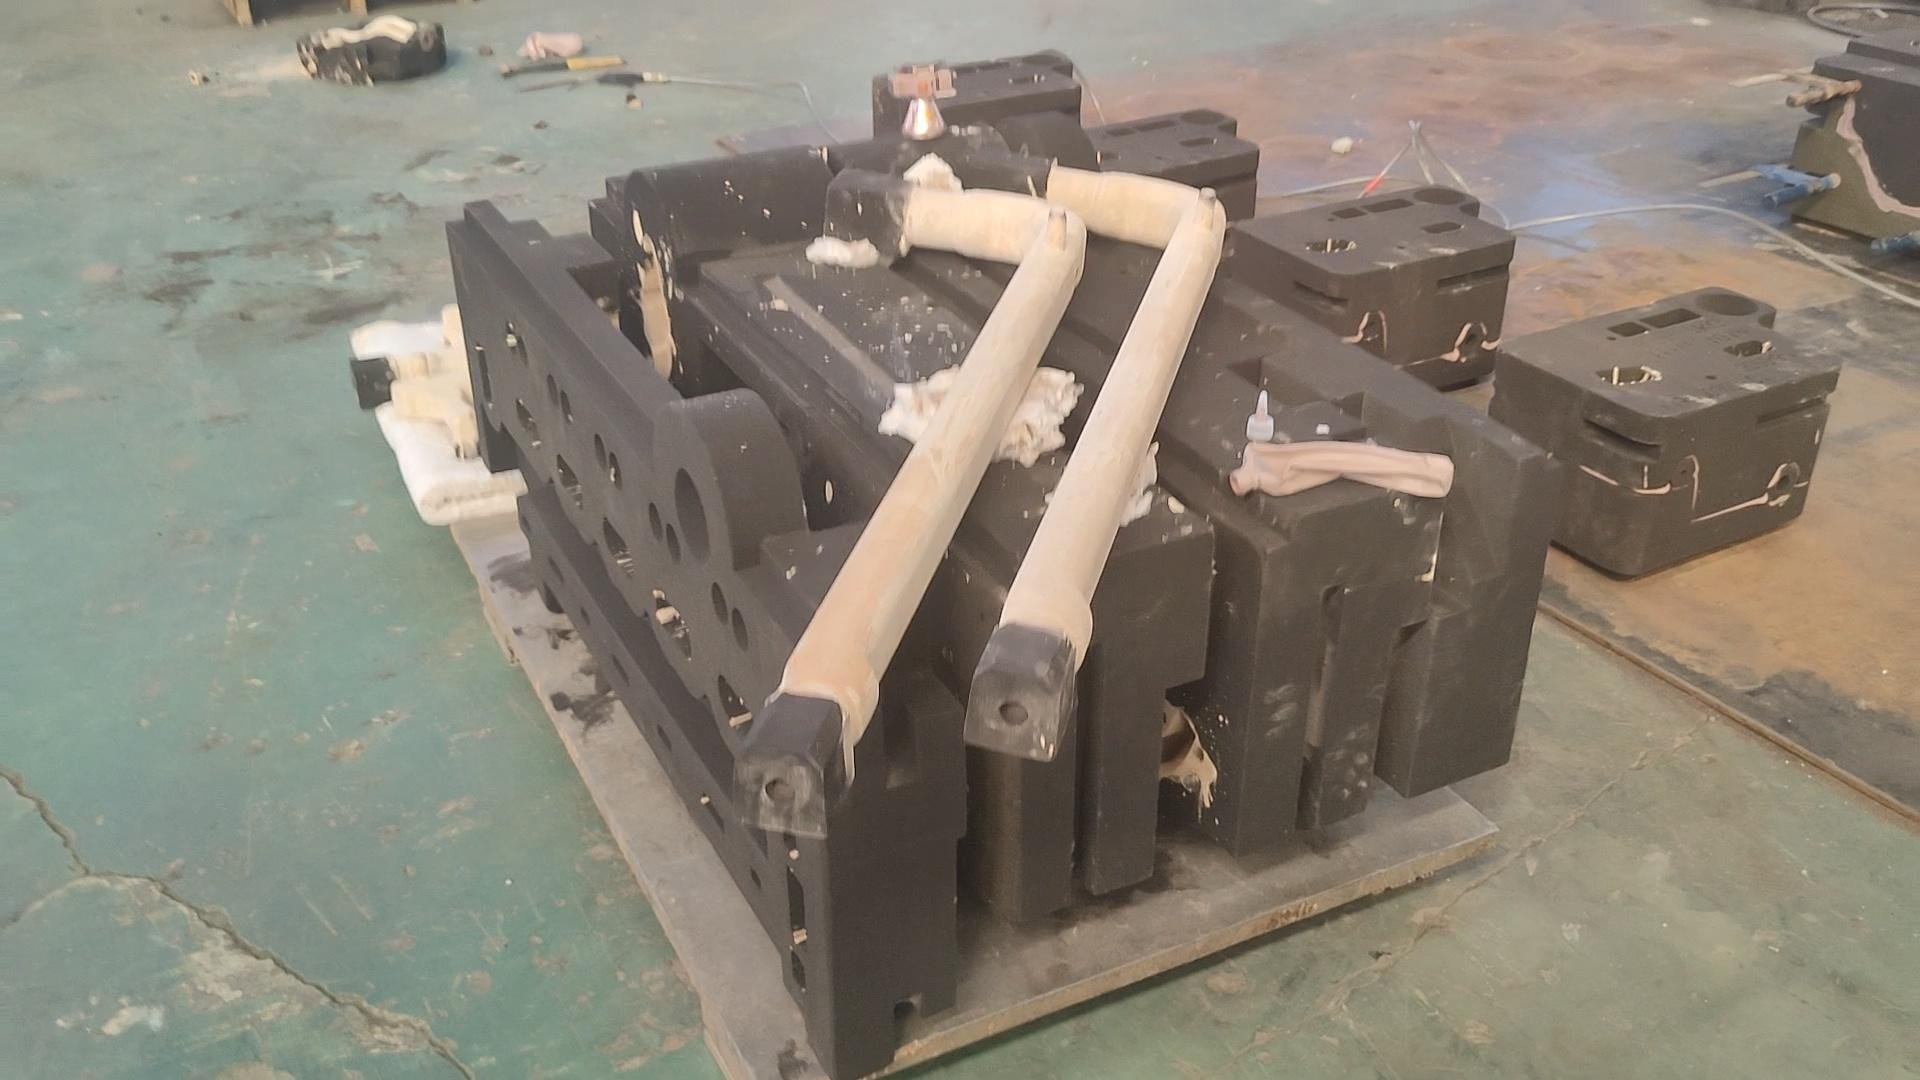pouring hole: (673, 469, 709, 566), (1695, 293, 1758, 316), (1414, 187, 1464, 203), (1179, 109, 1226, 125), (1021, 53, 1063, 66)
